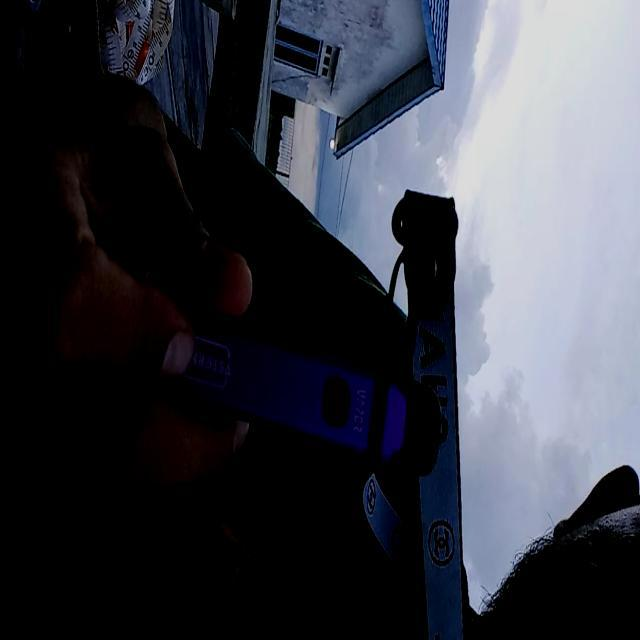Hazard: (154, 300, 440, 473)
